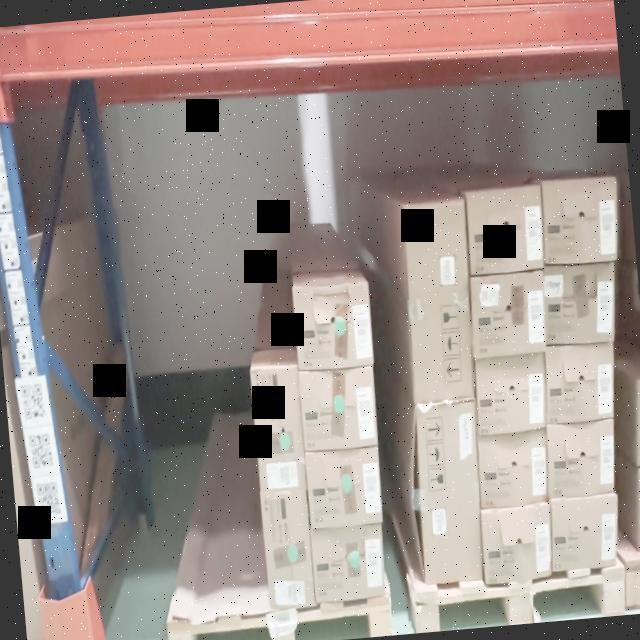box: (404, 199, 472, 404), (418, 401, 483, 580), (251, 365, 307, 492), (294, 280, 372, 371), (299, 362, 378, 450), (467, 185, 543, 272), (471, 272, 544, 361), (543, 179, 616, 268), (262, 492, 316, 609), (305, 448, 381, 528), (311, 526, 387, 603), (477, 430, 548, 507), (481, 503, 551, 581), (546, 344, 613, 423), (477, 359, 545, 435), (548, 419, 615, 496), (545, 265, 612, 341), (552, 494, 616, 570)
